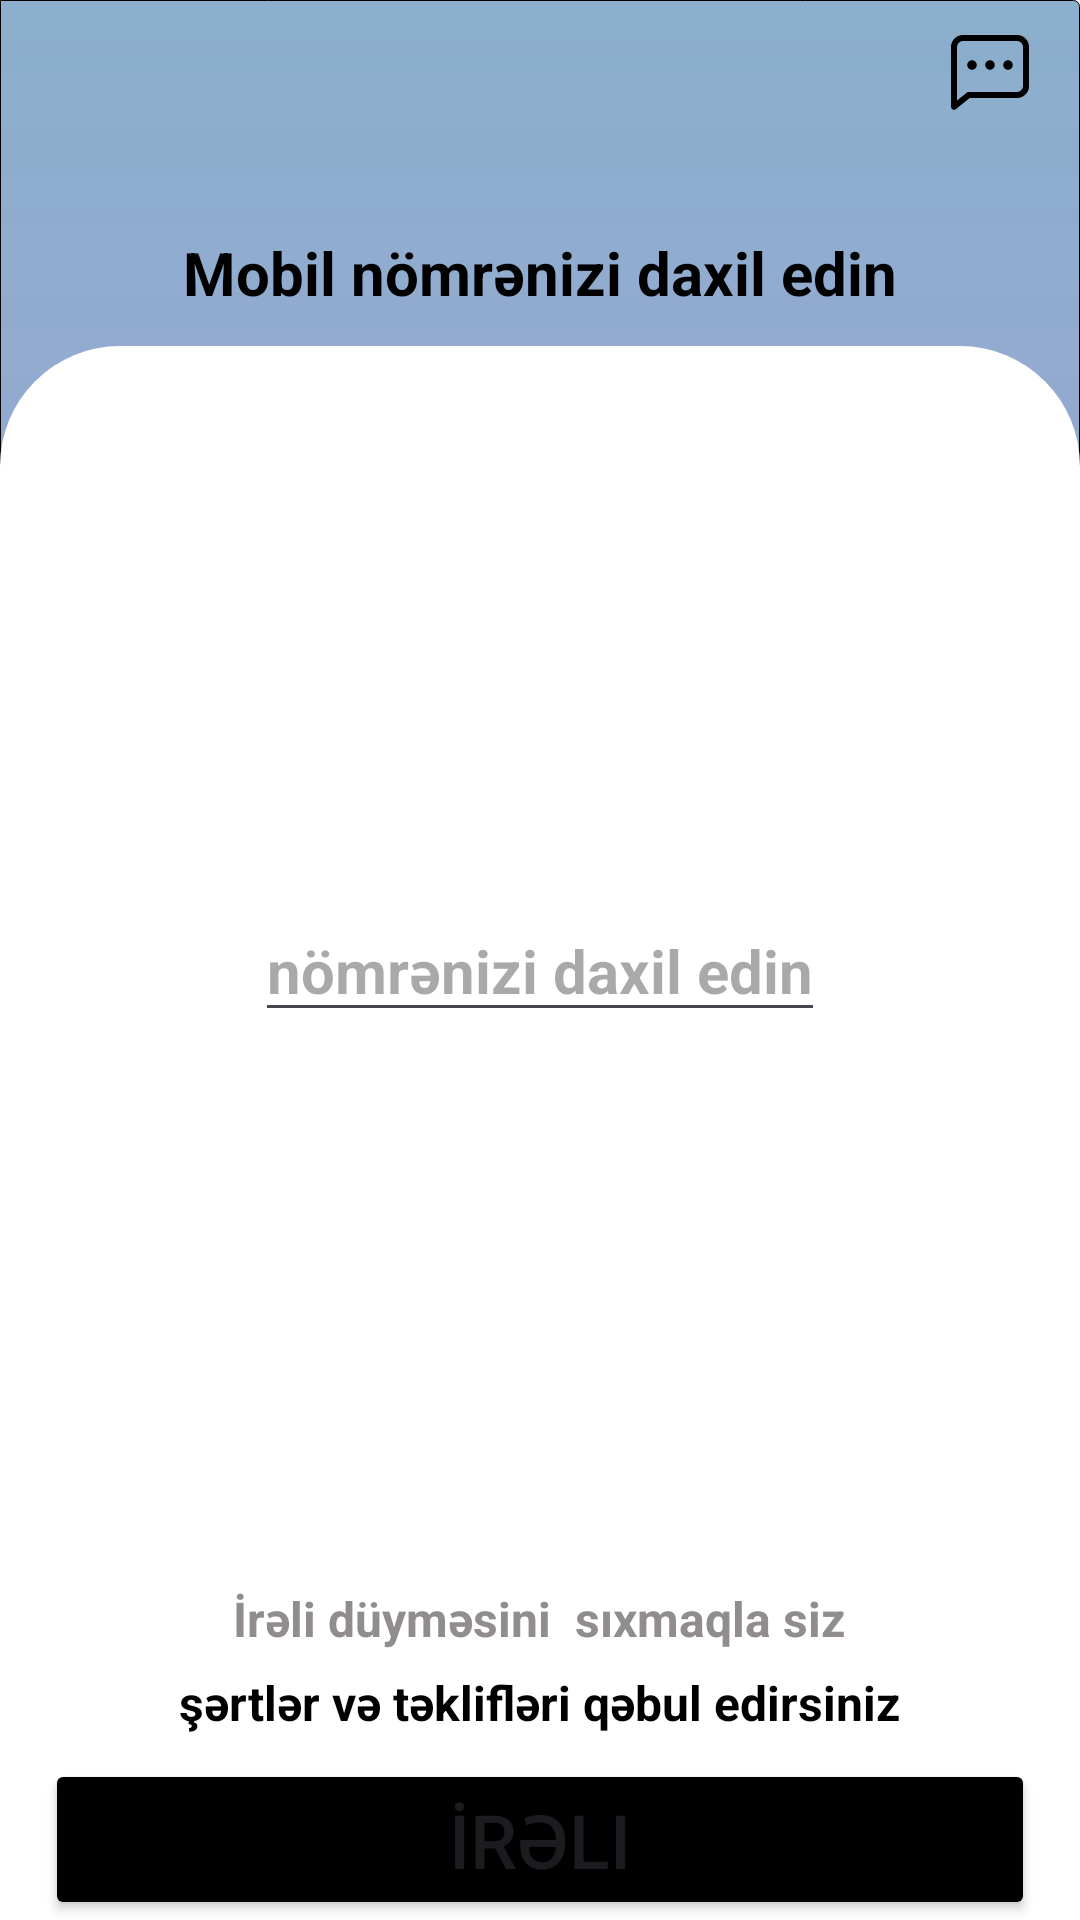

Icon click points for this 1080 x 1920 phone screenshot, format point (x, y):
chat: point (990, 72)
